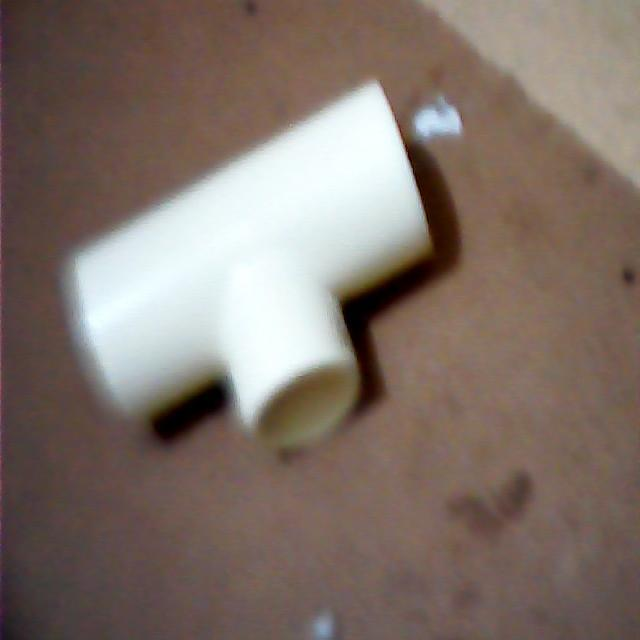T Joint: (62, 80, 434, 452)
